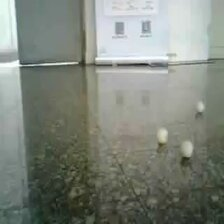w: (179, 140, 193, 157), (156, 128, 169, 144), (195, 102, 205, 113)
